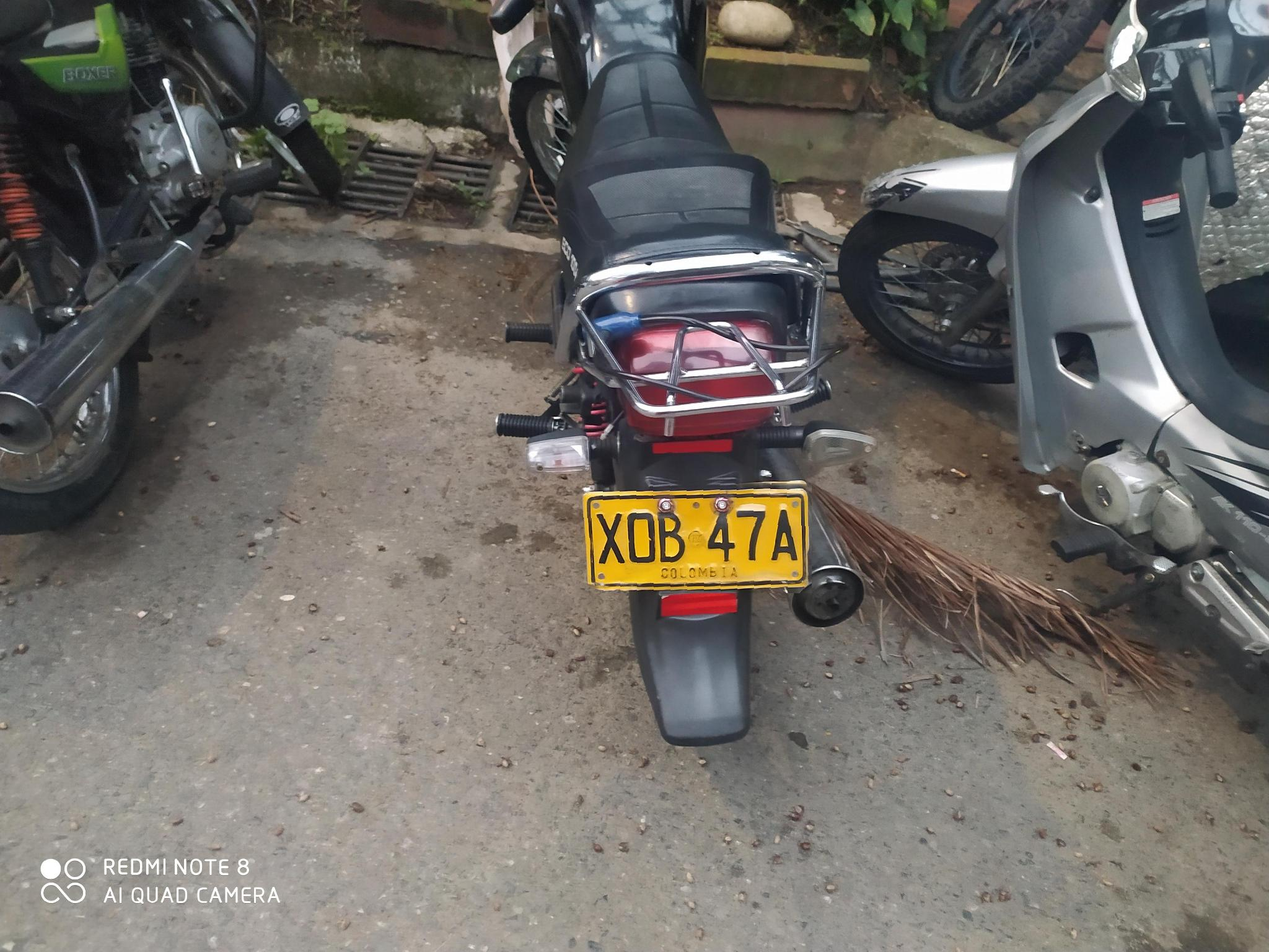placa: (577, 475, 812, 593)
